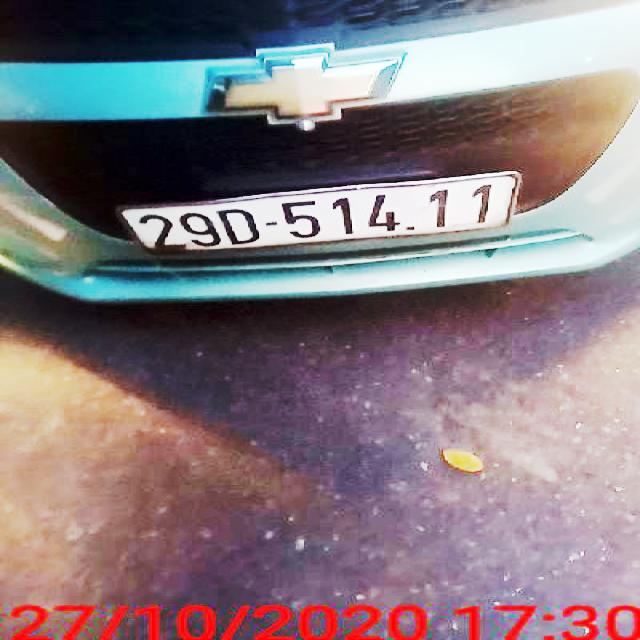license_plate: (125, 174, 518, 257)
